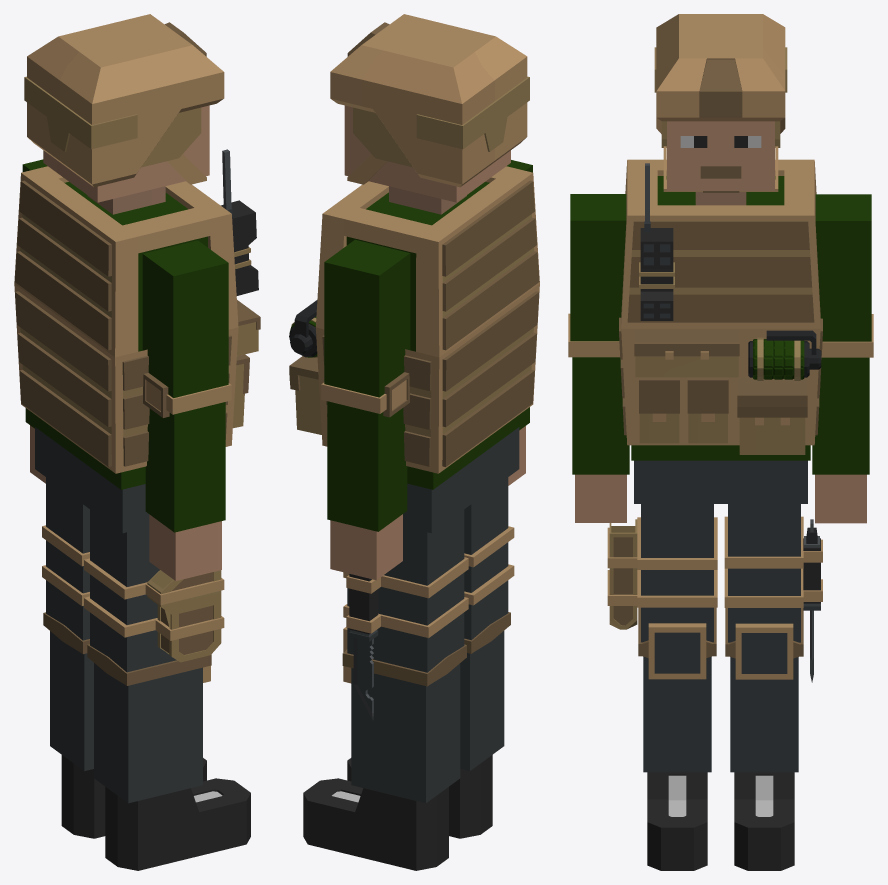
File: Low Poly Soldier.glb
3 views of the same model, side by side, from view 1: azimuth 30°, elevation 25°; view 2: azimuth 150°, elevation 25°; view 3: azimuth 270°, elevation 25° (orthographic).
Visible parts, largest first — view 1: Body & armor_18, head_8, right thigh_30, right arm_6, right shin_28, right foot_26, lower right arm_4, left thigh_24, left shin_22, waist_17, right hand_2, left foot_20 (+1 smaller); view 2: Body & armor_18, head_8, left thigh_24, left arm_14, left shin_22, left foot_20, Lower left arm_12, right thigh_30, right shin_28, waist_17, left hand_10, right foot_26 (+1 smaller); view 3: Body & armor_18, head_8, right thigh_30, left thigh_24, left arm_14, right arm_6, waist_17, right shin_28, left shin_22, Lower left arm_12, lower right arm_4, left foot_20 (+4 smaller).
Part boxes in pixels (x1,y1,x2,y2): Body & armor_18: (14,149,260,489); head_8: (24,14,224,202); right thigh_30: (84,509,224,685); right arm_6: (142,240,231,417); right shin_28: (94,663,202,803); right foot_26: (105,778,250,870); lower right arm_4: (145,402,225,532); left thigh_24: (42,477,89,654); left shin_22: (50,631,93,770); waist_17: (35,427,149,533); right hand_2: (149,514,221,580); left foot_20: (61,755,206,838); Body & armor_18: (289,166,539,489); head_8: (330,14,529,202); left thigh_24: (342,509,468,720); left arm_14: (321,239,410,417); left shin_22: (351,663,460,803); left foot_20: (303,778,448,870); Lower left arm_12: (327,401,407,531); right thigh_30: (464,477,514,653); right shin_28: (460,631,504,770); waist_17: (403,427,519,533); left hand_10: (330,514,402,580); right foot_26: (347,755,492,838); Body & armor_18: (619,159,822,460); head_8: (654,14,787,192); right thigh_30: (607,504,717,679); left thigh_24: (724,504,822,682); left arm_14: (815,194,873,357); right arm_6: (568,194,626,357); waist_17: (634,460,807,503); right shin_28: (643,656,711,772); left shin_22: (730,657,798,772); Lower left arm_12: (812,357,869,474); lower right arm_4: (572,357,629,474); left foot_20: (734,772,794,870).
Bounding box in the file's own units: 0.8309 × 3.8 × 1.33.
1 material, 1 textured.
